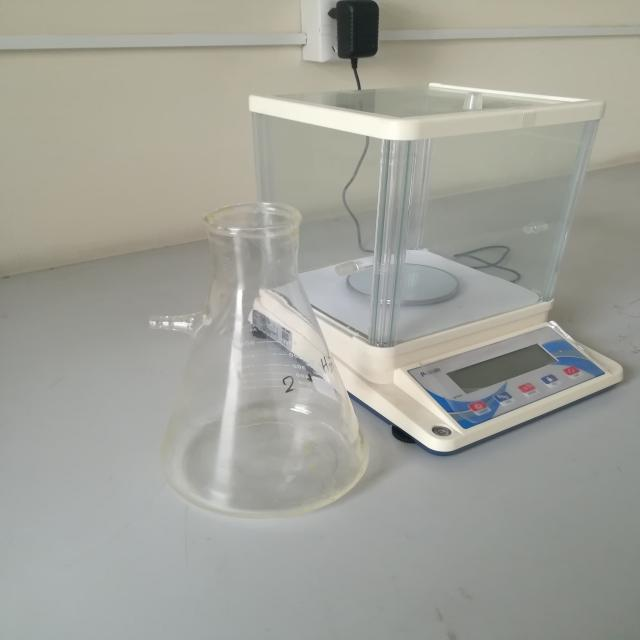Conical_Flask: (117, 189, 411, 551)
